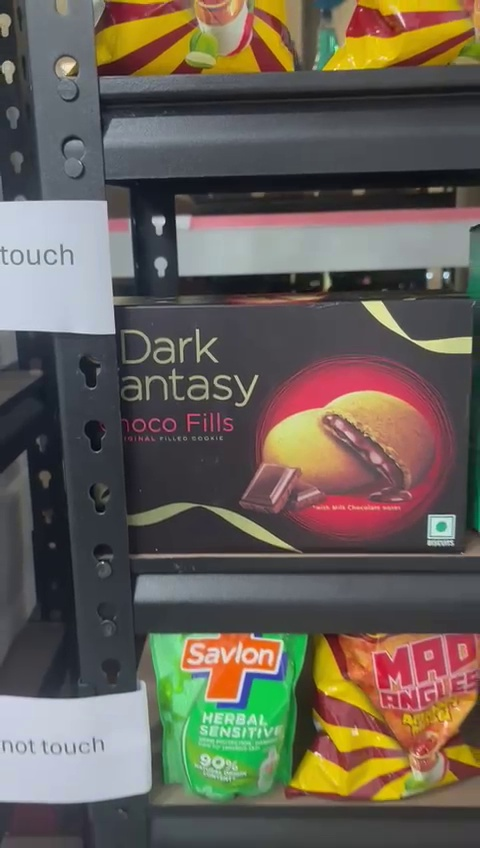Dark Fantasy: (119, 298, 464, 551)
